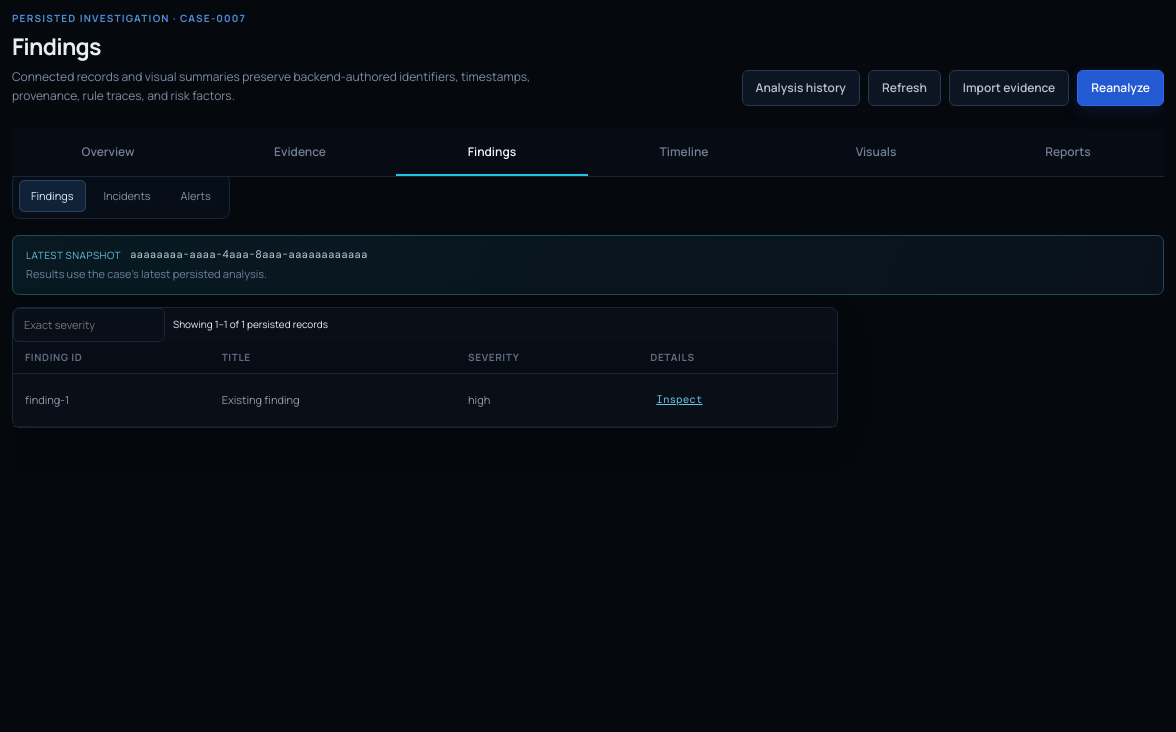
Test: ConnectedCaseWorkspaceV3Page › handles a reused reanalysis on the exact Findings route
Expected: the text "Existing finding" is shown, [210,374,456,426]
Click the button "Reanalyze".
click(1121, 88)  # box [1077,70,1164,106]
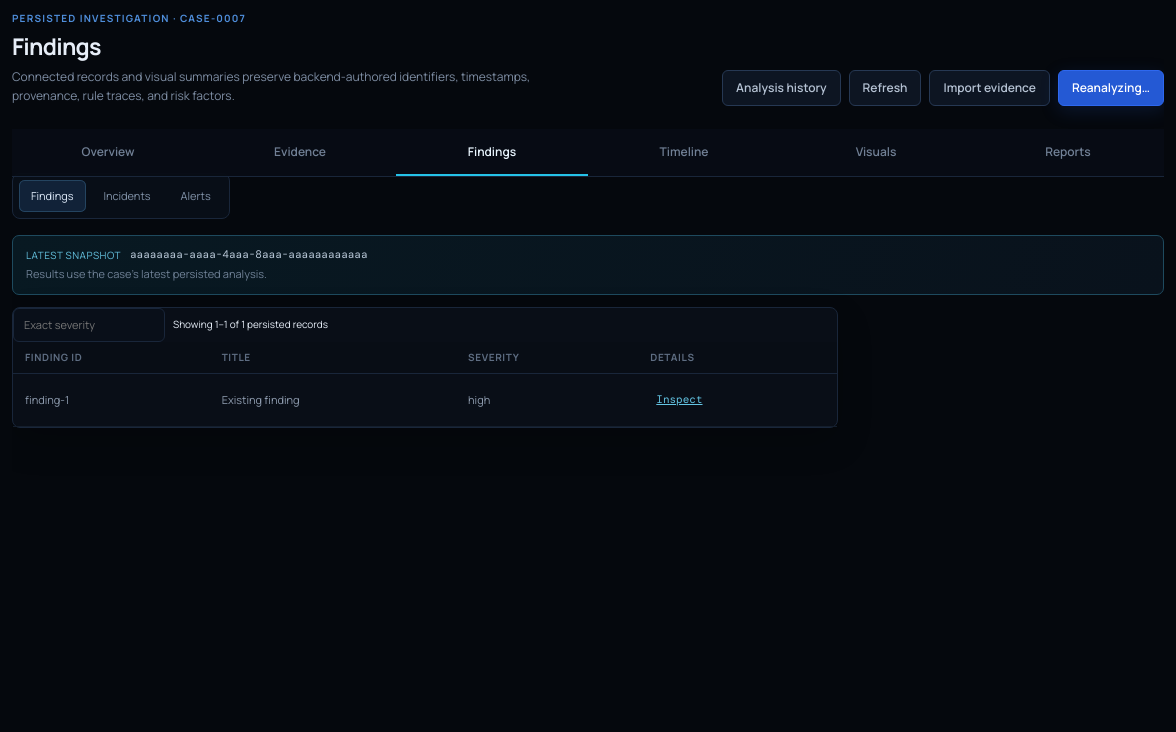
Click the button named "Reanalyze".
click(1111, 88)  # box [1058,70,1164,106]
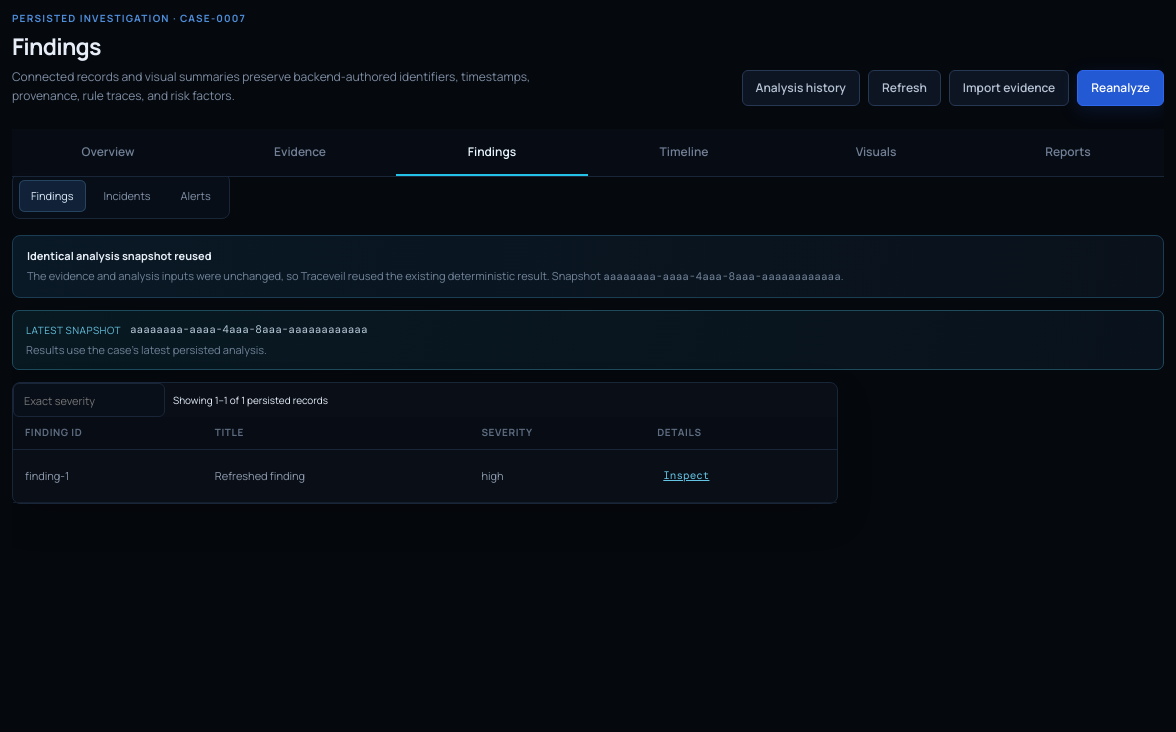
Expected: the text "Identical analysis snapshot reused" is shown, [27,248,212,262]
Expected: the text "Refreshed finding" is shown, [203,449,469,502]
Expected: the button "Reanalyze" is enabled, [1077,70,1164,106]
